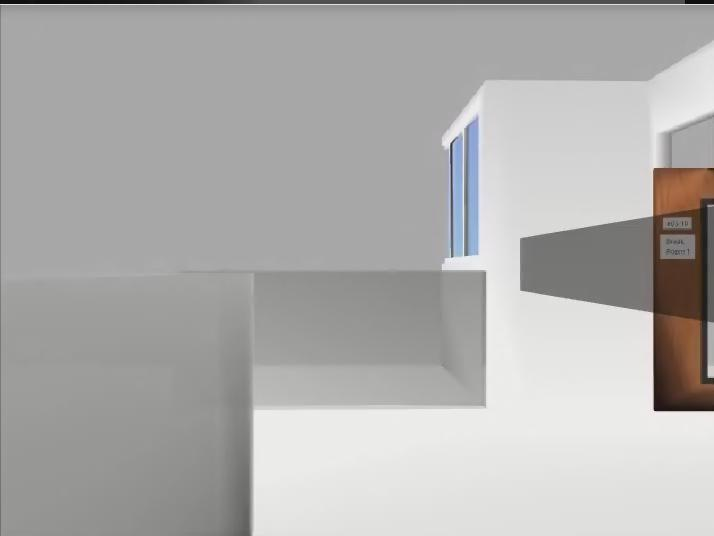door: (653, 169, 714, 412)
